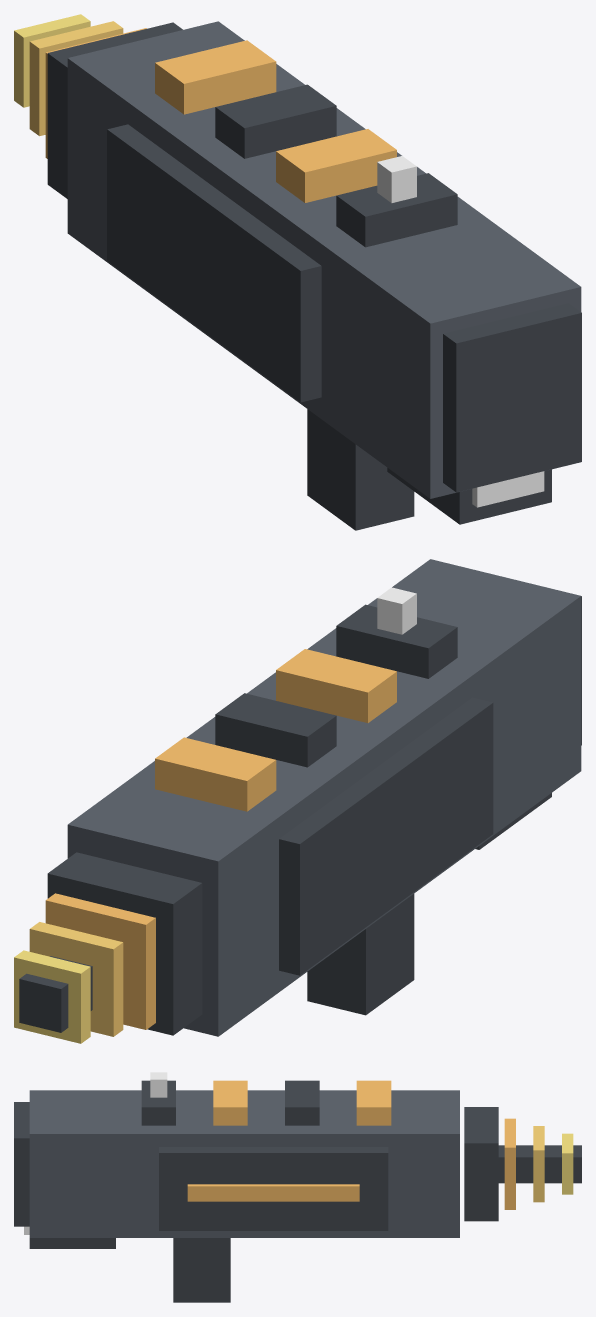
The model's file is LASER.gltf.
The picture shows the model from 3 angles, top to bottom: view 1: azimuth 30°, elevation 25°; view 2: azimuth 150°, elevation 25°; view 3: azimuth 270°, elevation 25°; orthographic projection. The views are drawn at different scales.
Parts seen in each view (by area): view 1: LASER; view 2: LASER; view 3: LASER.
Boxes of the visible parts, box(x1,y1,x2,y2) form: LASER: box(14, 14, 581, 530); LASER: box(14, 559, 581, 1043); LASER: box(14, 1072, 581, 1302).
Bounding box in the file's own units: 0.095 × 0.168 × 0.396.
